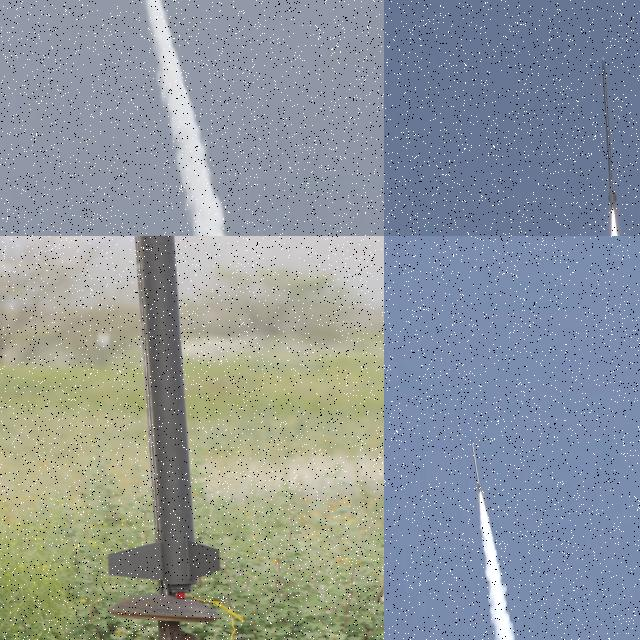Rocket: (108, 236, 225, 600), (602, 56, 618, 207), (471, 440, 482, 495)
